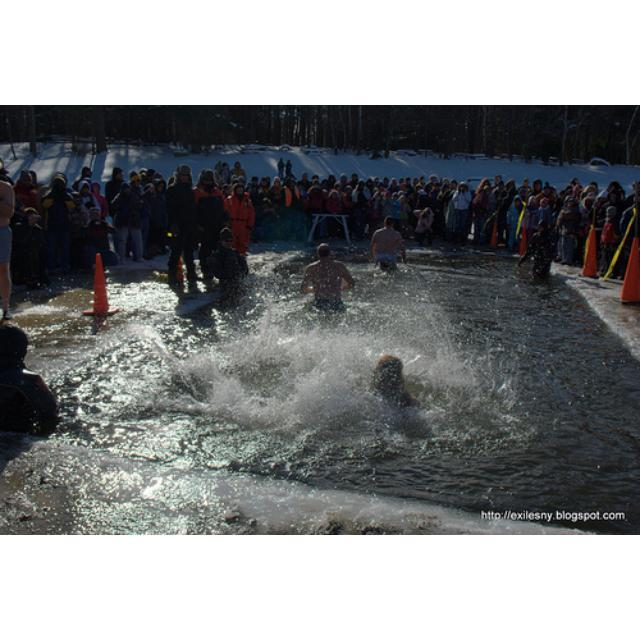human: (298, 242, 350, 313), (369, 352, 418, 404), (368, 214, 410, 274)
